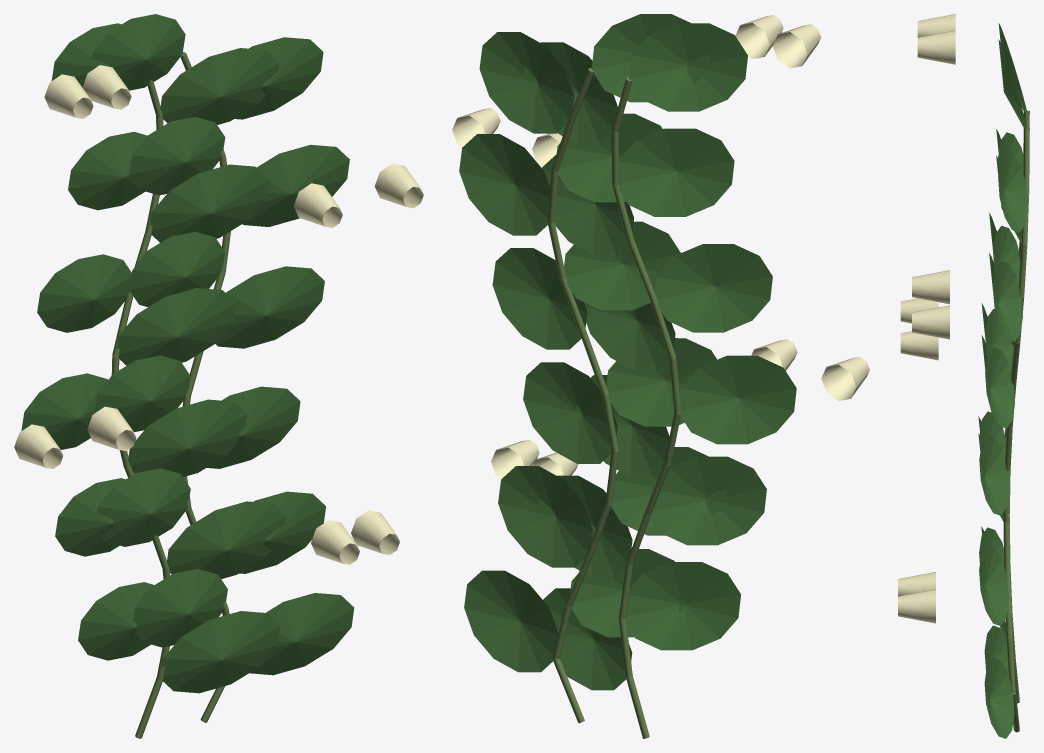
File: lonicera-japonica.glb
The picture shows the model from 3 angles, left to right: view 1: azimuth 30°, elevation 25°; view 2: azimuth 150°, elevation 25°; view 3: azimuth 270°, elevation 25°; orthographic projection. The views are drawn at different scales.
Visible parts, largest first — view 1: Climber species leaves, Species flowers / bracts, Climber species stems; view 2: Climber species leaves, Climber species stems, Species flowers / bracts; view 3: Climber species leaves, Species flowers / bracts, Climber species stems.
Boxes of the visible parts, bbox=[...] form: Climber species leaves: bbox=[21, 14, 354, 693]; Species flowers / bracts: bbox=[14, 65, 423, 564]; Climber species stems: bbox=[111, 52, 230, 738]; Climber species leaves: bbox=[459, 14, 796, 690]; Climber species stems: bbox=[547, 68, 681, 738]; Species flowers / bracts: bbox=[452, 15, 869, 478]; Climber species leaves: bbox=[978, 23, 1027, 738]; Species flowers / bracts: bbox=[898, 14, 955, 623]; Climber species stems: bbox=[1003, 110, 1029, 732].
Bounding box in the file's own units: 0.4922 × 0.8546 × 0.1564.
